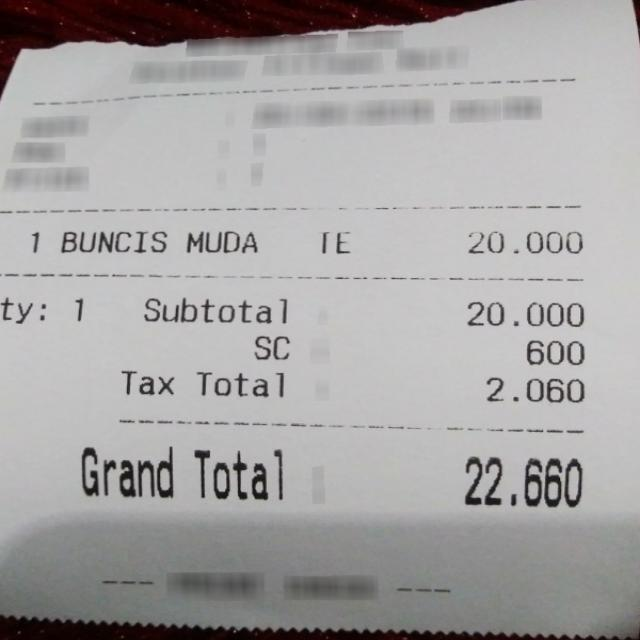text: (462, 454, 581, 506), (78, 447, 172, 496), (194, 446, 280, 499), (142, 298, 284, 322), (465, 299, 581, 325), (484, 376, 582, 401), (466, 231, 580, 252), (59, 230, 165, 252), (193, 370, 281, 395), (183, 230, 254, 252), (526, 339, 581, 363), (119, 370, 172, 394), (0, 295, 43, 322), (253, 334, 288, 359), (317, 228, 349, 254), (28, 228, 39, 252), (75, 296, 85, 321)
